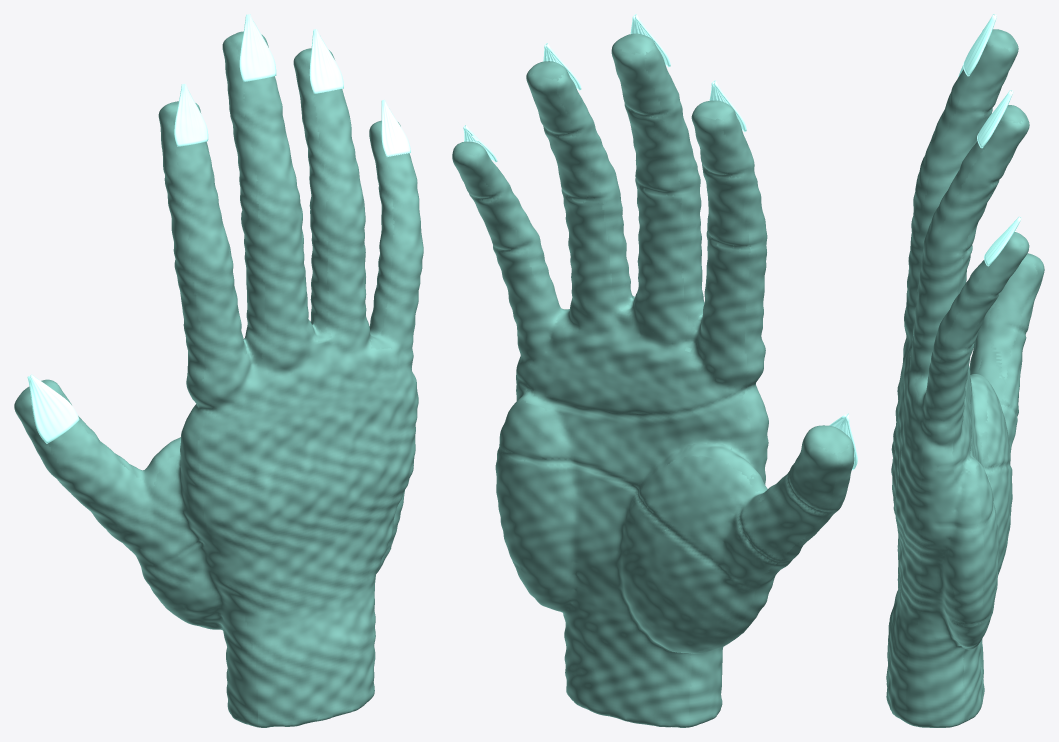
File: family-08.glb
3 views of the same model, side by side, from view 1: azimuth 30°, elevation 25°; view 2: azimuth 150°, elevation 25°; view 3: azimuth 270°, elevation 25° (orthographic). The views are drawn at different scales.
Parts seen in each view (by area): view 1: fingers__fingers_sculpt, back_of_hand__back_of_hand_sculpt, wrist__wrist_sculpt, fingertips__fingertips_sculpt, palm__palm_sculpt, nails__thumb_claw, nails__middle_claw, nails__ring_claw, nails__index_claw, nails__pinky_claw; view 2: fingers__fingers_sculpt, palm__palm_sculpt, wrist__wrist_sculpt, fingertips__fingertips_sculpt; view 3: fingers__fingers_sculpt, palm__palm_sculpt, wrist__wrist_sculpt, back_of_hand__back_of_hand_sculpt, fingertips__fingertips_sculpt, nails__middle_claw, nails__ring_claw, nails__pinky_claw.
Part boxes in pixels (x1,y1,x2,y2): fingers__fingers_sculpt: (43,94,423,605); back_of_hand__back_of_hand_sculpt: (183,369,418,623); wrist__wrist_sculpt: (173,570,378,727); fingertips__fingertips_sculpt: (14,31,414,463); palm__palm_sculpt: (163,414,404,616); nails__thumb_claw: (27,374,79,443); nails__middle_claw: (239,14,276,81); nails__ring_claw: (309,29,343,93); nails__index_claw: (174,83,208,146); nails__pinky_claw: (381,99,410,156); fingers__fingers_sculpt: (466,87,845,630); palm__palm_sculpt: (495,352,765,640); wrist__wrist_sculpt: (525,587,736,727); fingertips__fingertips_sculpt: (452,33,854,506); fingers__fingers_sculpt: (900,80,1028,509); palm__palm_sculpt: (937,365,1011,641); wrist__wrist_sculpt: (886,589,984,727); back_of_hand__back_of_hand_sculpt: (891,380,939,629); fingertips__fingertips_sculpt: (956,29,1044,325); nails__middle_claw: (963,14,996,76); nails__ring_claw: (977,90,1013,148); nails__pinky_claw: (984,216,1021,266).
Size of the model in its own units: 0.1309 by 0.2226 by 0.0473.
Materials: 2 (1 with a texture image).
